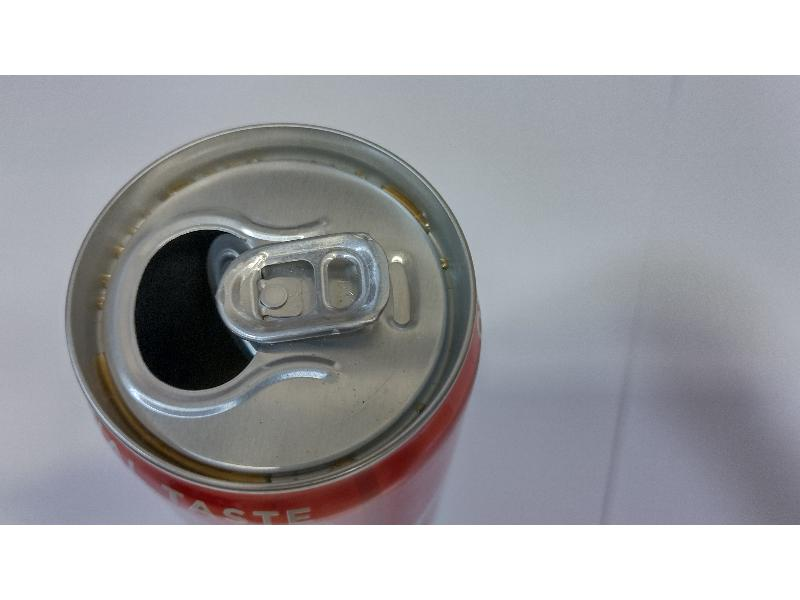can: (56, 114, 493, 524)
